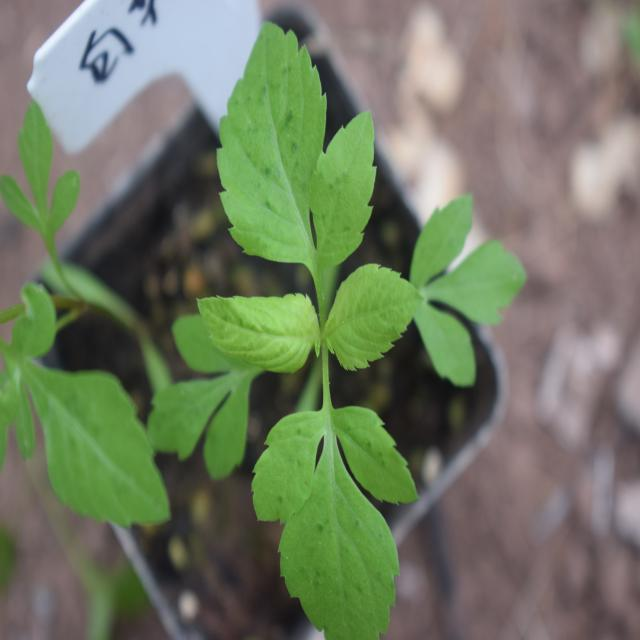Bidens pilosa: (177, 19, 494, 627)
